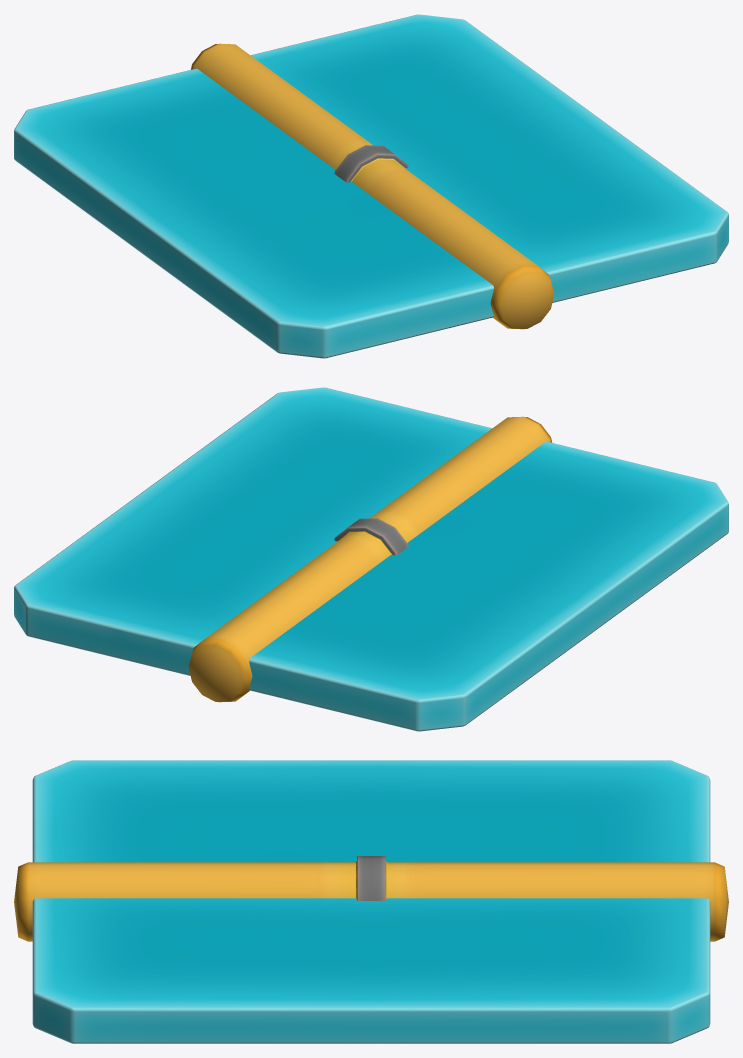
File: Horizontal_Rotate_Obstacle.fbx
The picture shows the model from 3 angles, top to bottom: view 1: azimuth 30°, elevation 25°; view 2: azimuth 150°, elevation 25°; view 3: azimuth 270°, elevation 25°; orthographic projection. The views are drawn at different scales.
Parts seen in each view (by area): view 1: Horizontal_Rotate_Obstacle; view 2: Horizontal_Rotate_Obstacle; view 3: Horizontal_Rotate_Obstacle.
Boxes of the visible parts, left/top/right/bottom form: Horizontal_Rotate_Obstacle: left=14, top=14, right=728, bottom=358; Horizontal_Rotate_Obstacle: left=14, top=387, right=728, bottom=731; Horizontal_Rotate_Obstacle: left=14, top=760, right=728, bottom=1043.
Bounding box in the file's own units: 1609 × 252 × 1946.
Materials: 1 (1 with a texture image).
